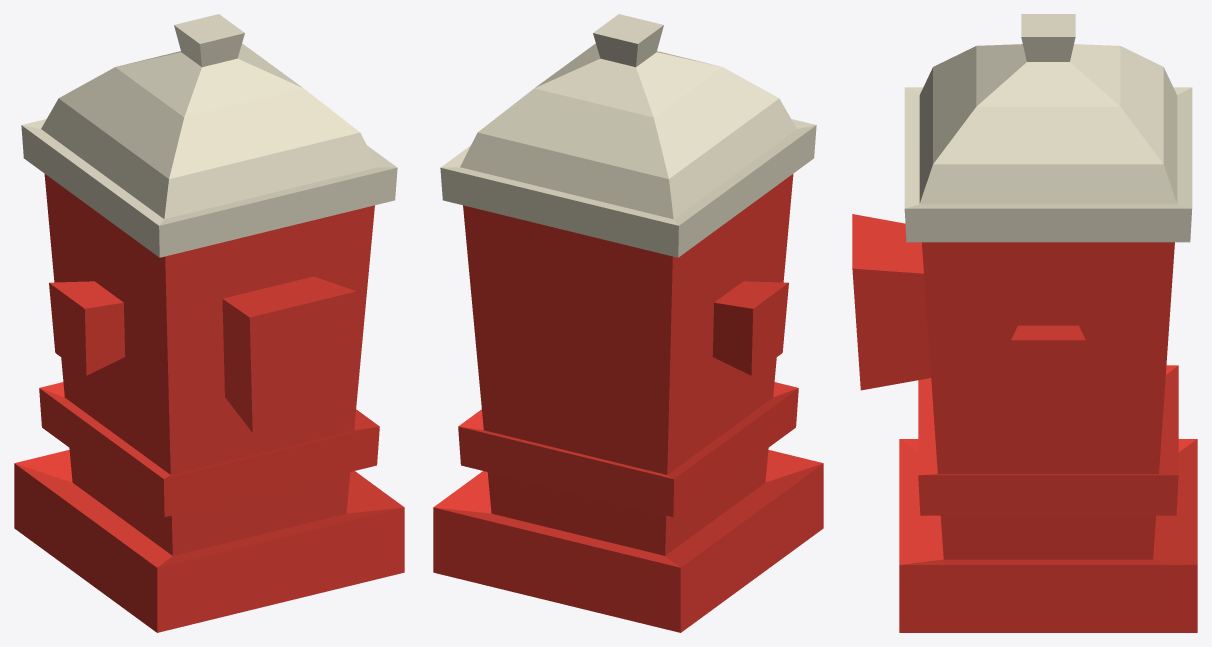
Rendered from fireHydrant.fbx.
3 views of the same model, side by side, from view 1: azimuth 30°, elevation 25°; view 2: azimuth 150°, elevation 25°; view 3: azimuth 270°, elevation 25° (orthographic). The views are drawn at different scales.
Parts seen in each view (by area): view 1: fireHydrant; view 2: fireHydrant; view 3: fireHydrant.
Part boxes in pixels (x1,y1,x2,y2): fireHydrant: (14,14,404,632); fireHydrant: (433,14,823,632); fireHydrant: (852,14,1197,632).
Size of the model in its own units: 49.83 by 87.03 by 50.01.
